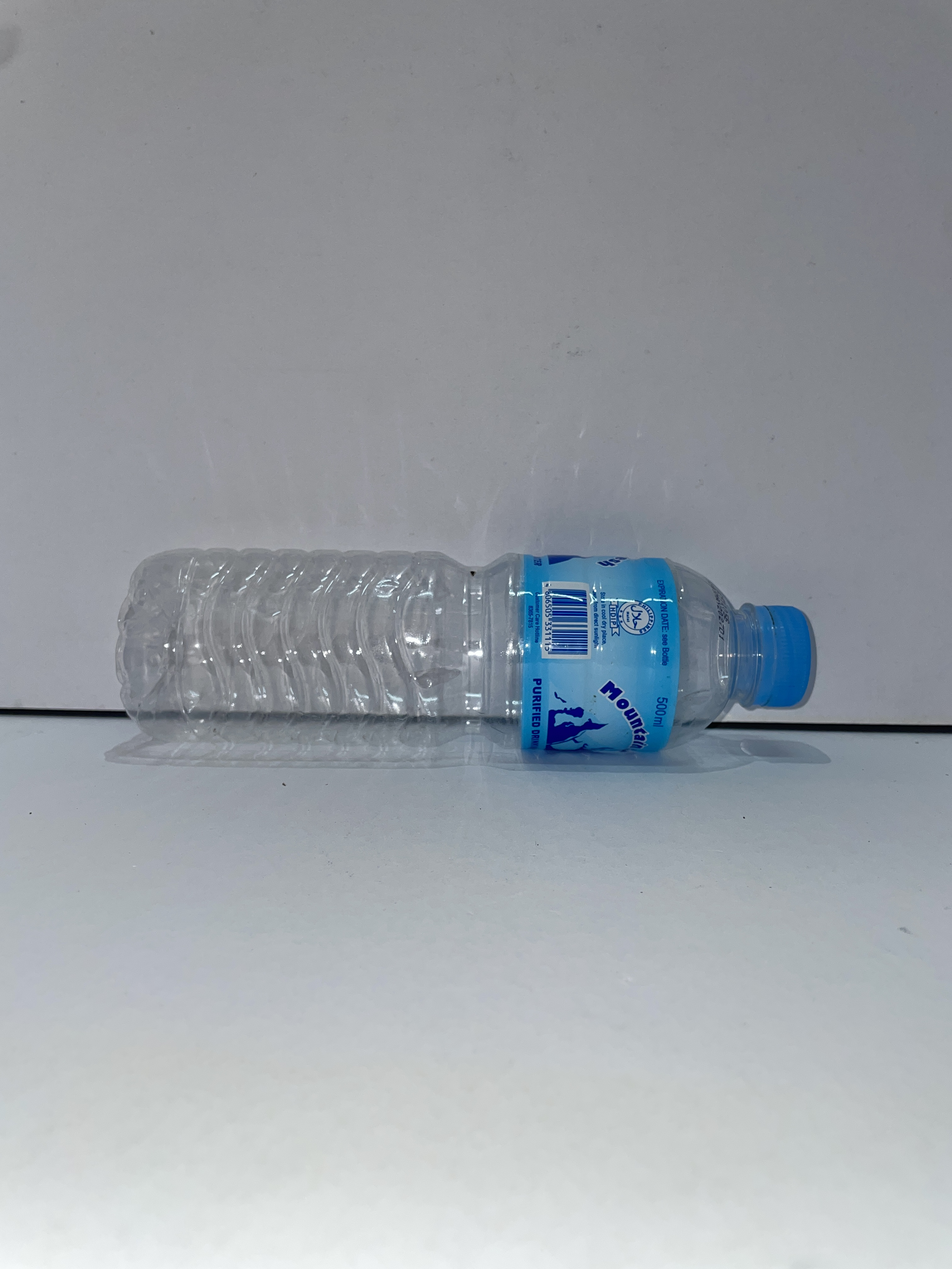Mountain Fresh 500ml: (116, 549, 816, 758)
